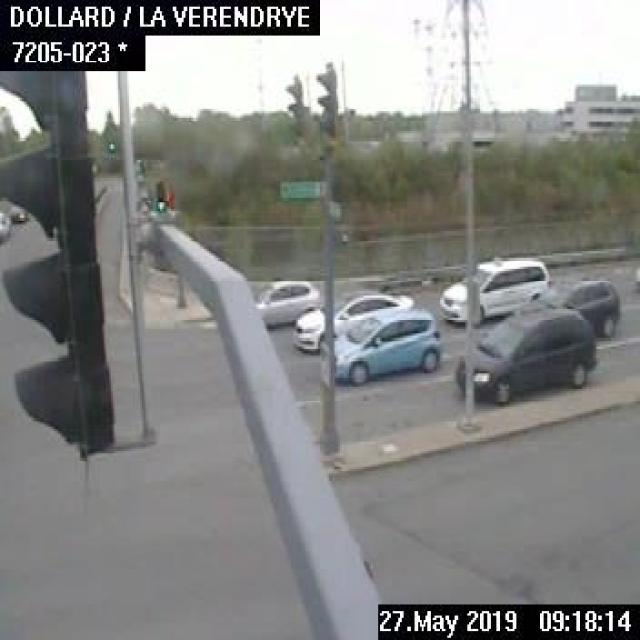vehicle: (453, 306, 594, 404), (329, 310, 442, 387), (292, 288, 412, 355), (438, 254, 550, 325), (513, 274, 618, 338), (254, 276, 321, 326), (7, 204, 28, 223), (0, 210, 9, 246)
